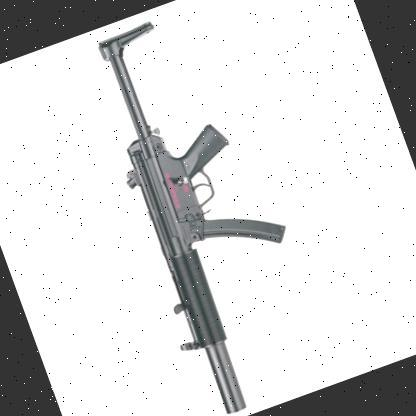rifle: (45, 0, 340, 416)
